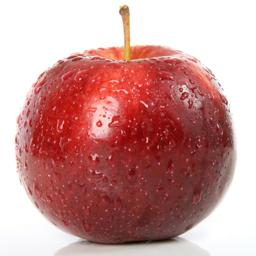Apple Fresh: (0, 0, 245, 252)
